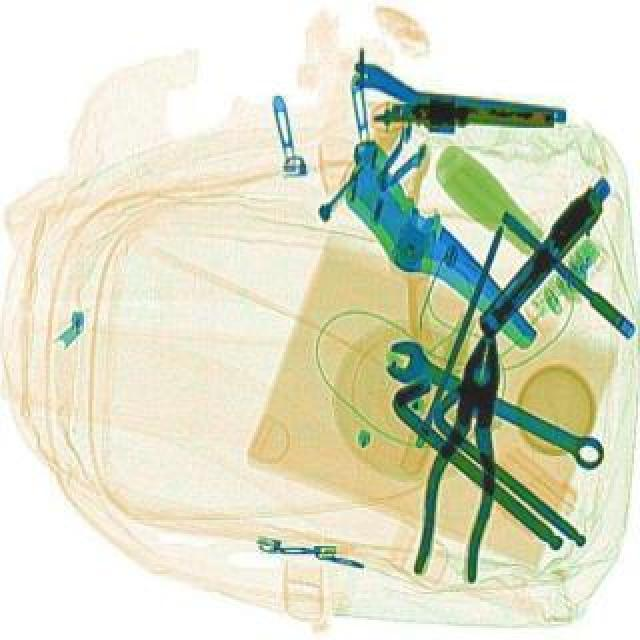gun: (462, 170, 622, 338), (350, 58, 564, 134)
scissors: (374, 330, 614, 474)
wrench: (410, 324, 520, 586)
